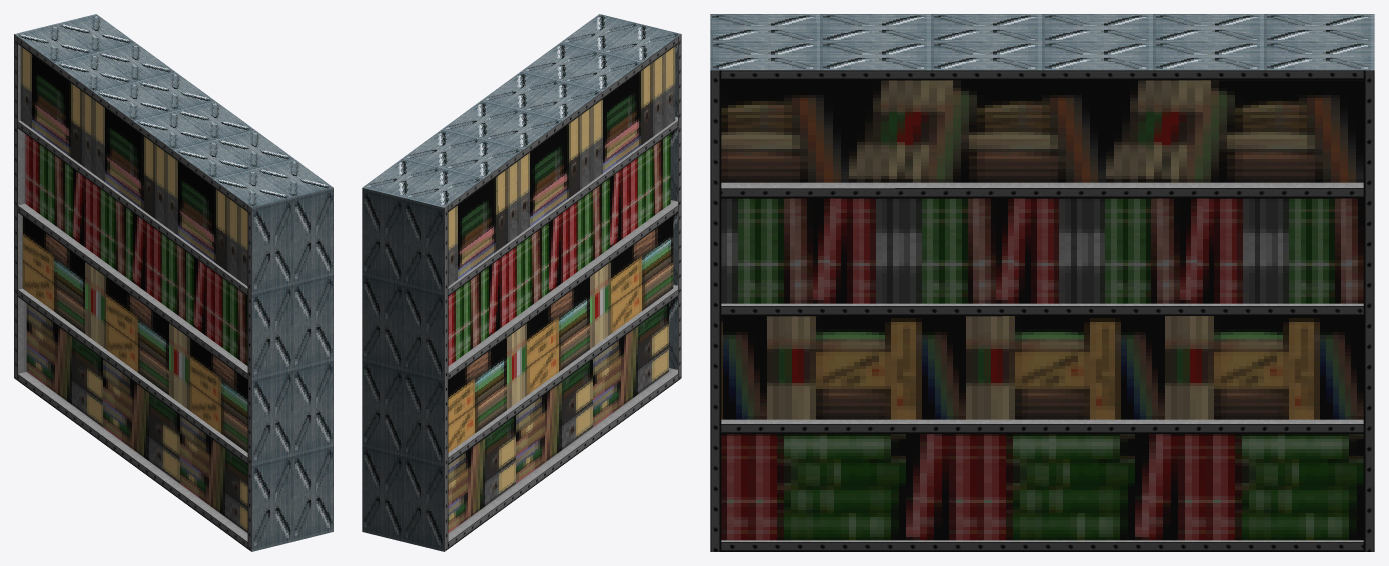
The model's file is surface2_primary_052.glb.
The picture shows the model from 3 angles, left to right: view 1: azimuth 30°, elevation 25°; view 2: azimuth 150°, elevation 25°; view 3: azimuth 270°, elevation 25°; orthographic projection. The views are drawn at different scales.
Visible parts, largest first — view 1: Object; view 2: Object; view 3: Object.
Part boxes in pixels (bbox=[...]): Object: bbox=[14, 14, 333, 551]; Object: bbox=[362, 14, 681, 551]; Object: bbox=[710, 14, 1374, 551].
Size of the model in its own units: 0.6737 by 2.69 by 3.36.
Materials: 16 (16 with a texture image).
